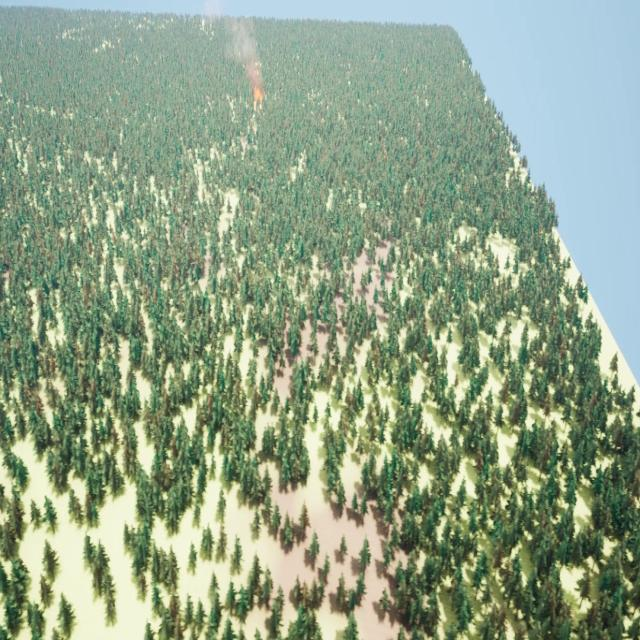fire: (252, 84, 264, 103)
smoke: (225, 10, 265, 89)
